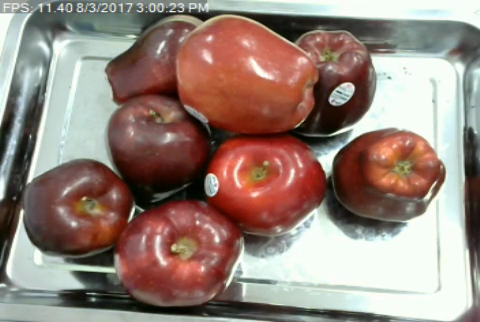Apple: (171, 12, 322, 138), (109, 197, 246, 309), (200, 131, 330, 239), (18, 156, 134, 259), (330, 126, 448, 224), (105, 92, 215, 197), (287, 28, 378, 142), (105, 9, 205, 105)
